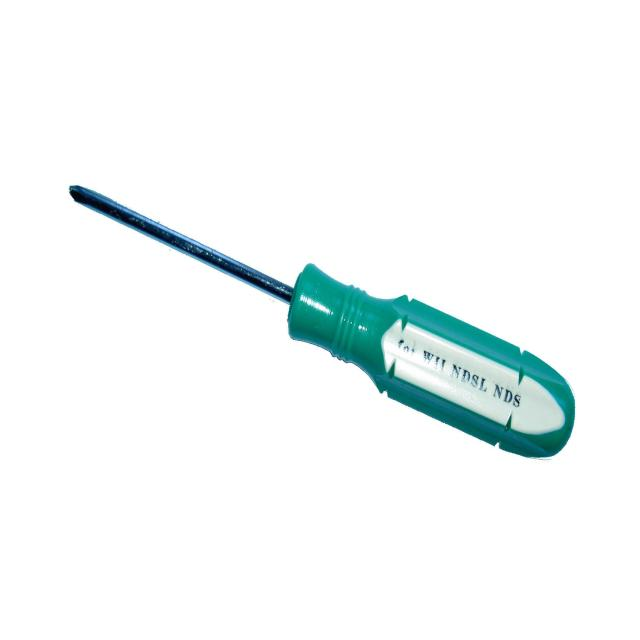screw_driver: (68, 185, 577, 460)
